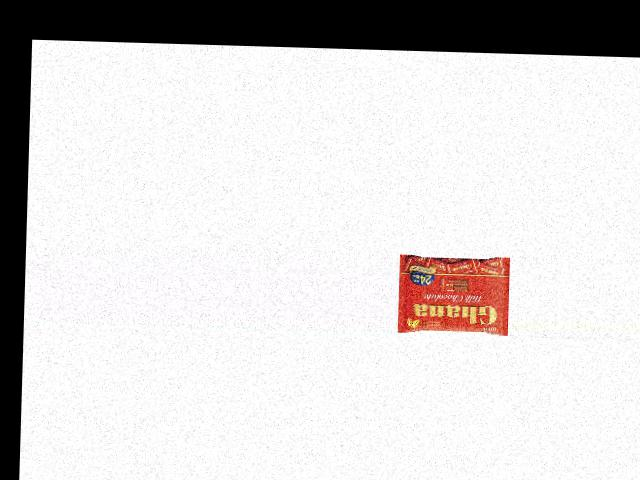chocolate: (396, 251, 508, 333)
